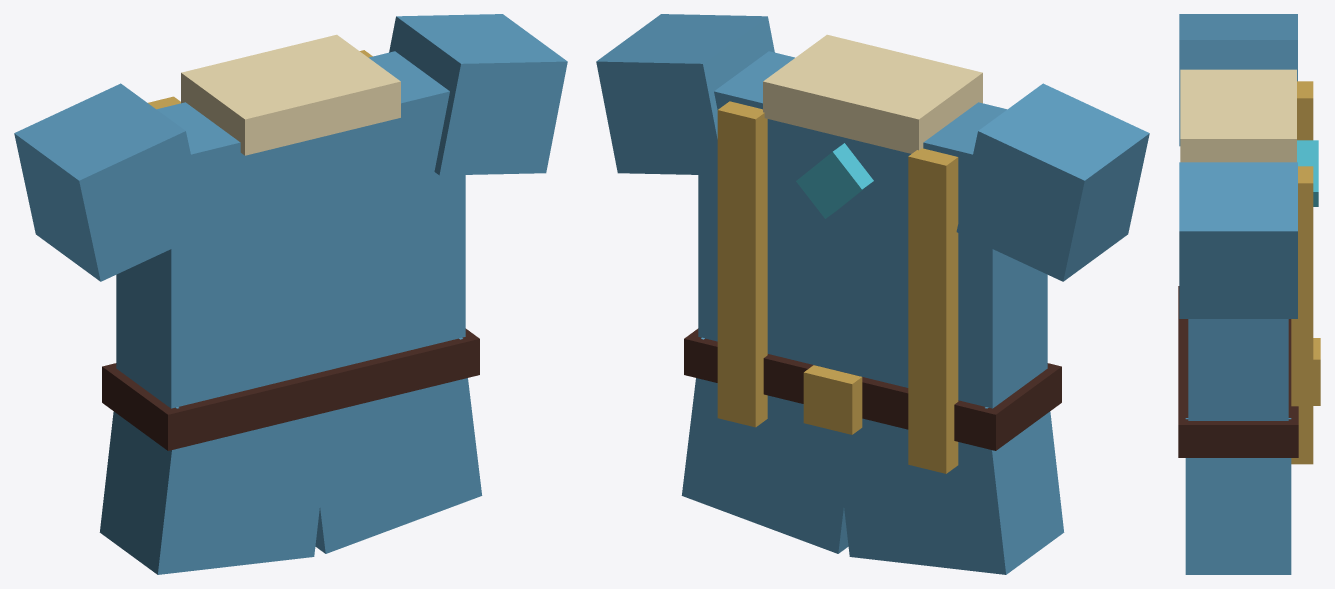
File: runewoven_mantle.glb
3 views of the same model, side by side, from view 1: azimuth 30°, elevation 25°; view 2: azimuth 150°, elevation 25°; view 3: azimuth 270°, elevation 25° (orthographic). The views are drawn at different scales.
Parts seen in each view (by area): view 1: runewoven_mantle; view 2: runewoven_mantle; view 3: runewoven_mantle.
Part boxes in pixels (<box>): runewoven_mantle: <box>14,14,567,574</box>; runewoven_mantle: <box>596,14,1149,574</box>; runewoven_mantle: <box>1178,14,1320,574</box>.
Bounding box in the file's own units: 2.82 × 2.54 × 0.78.
